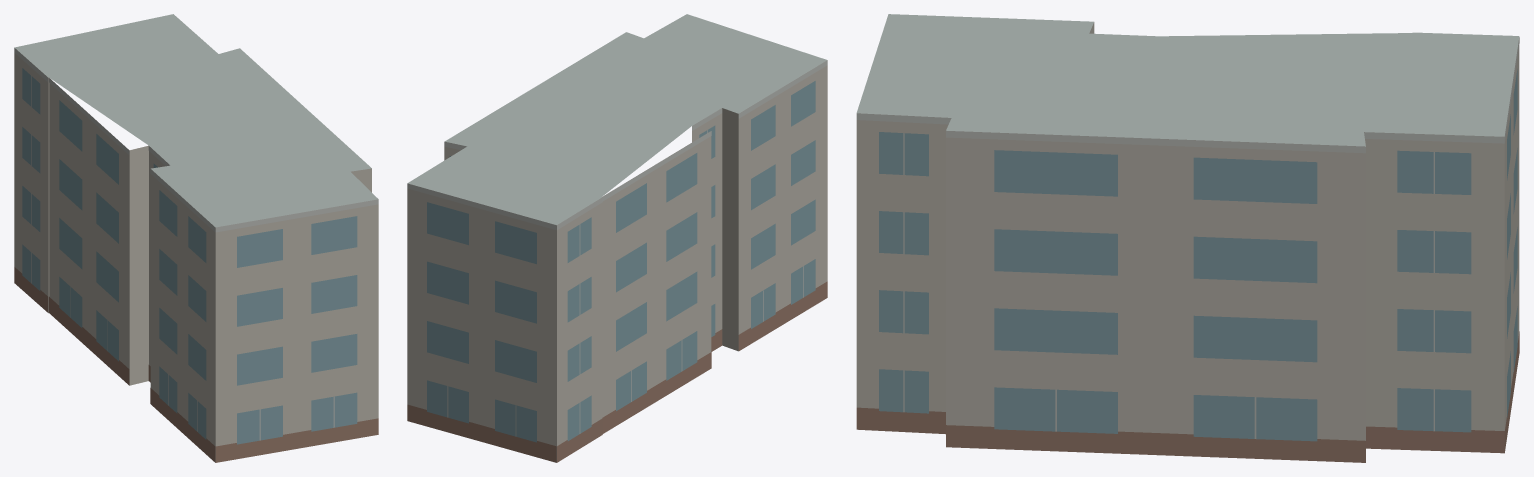
The model's file is survey-upis-32970870.glb.
3 renders of one model, left to right at view 1: azimuth 30°, elevation 25°; view 2: azimuth 150°, elevation 25°; view 3: azimuth 270°, elevation 25°, orthographic. The views are drawn at different scales.
Parts seen in each view (by area): view 1: survey-upis-32970870.tmp; view 2: survey-upis-32970870.tmp; view 3: survey-upis-32970870.tmp.
Part boxes in pixels (x1,y1,x2,y2): survey-upis-32970870.tmp: (14, 14, 378, 462); survey-upis-32970870.tmp: (407, 14, 827, 462); survey-upis-32970870.tmp: (856, 14, 1519, 462).
Bounding box in the file's own units: 10.25 × 11.4 × 21.66.
